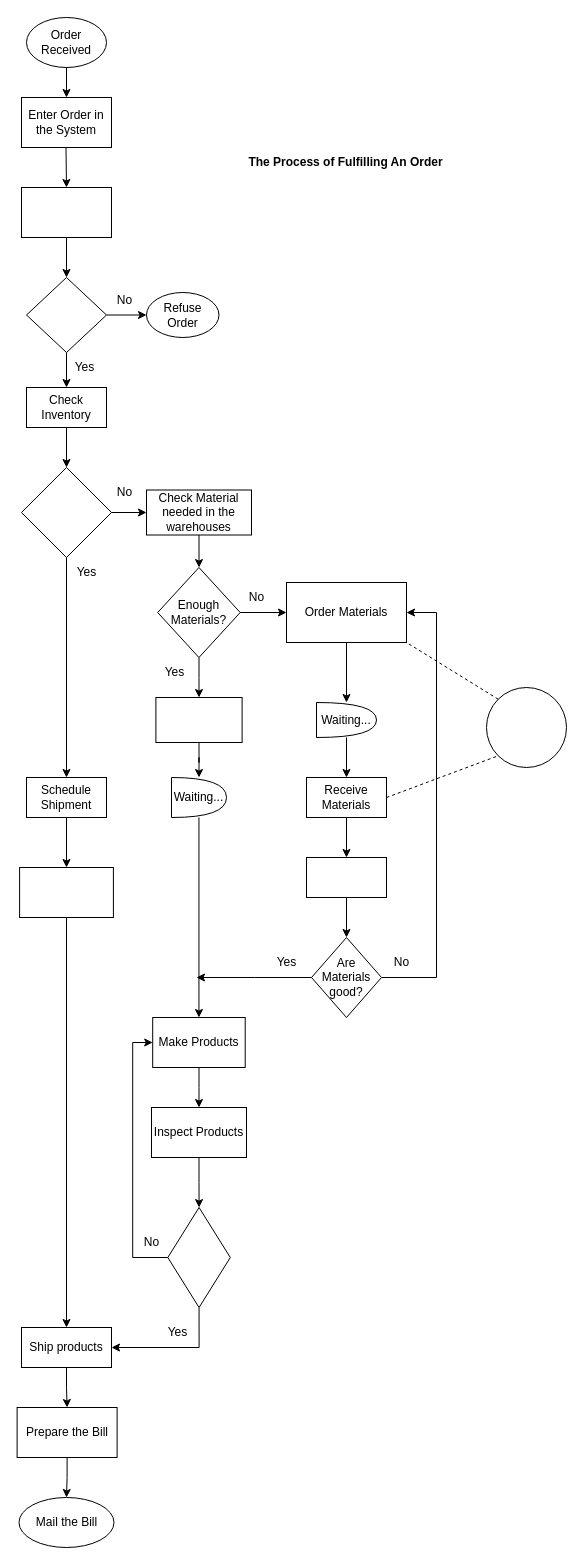
Some shapes in this 585 by 1565 pixel diagram are drawn without their labels. Each missing label, with the centre of its shape:
Are Products good?: point 198,1257
Check Credit: point 66,212
Confirm Delivery Date with the Customer: point 66,892
Inspect Materials: point 346,877
Is Credit good?: point 66,314
Product are enough?: point 66,512
Schedule Production: point 198,719
Vendor: point 526,727
